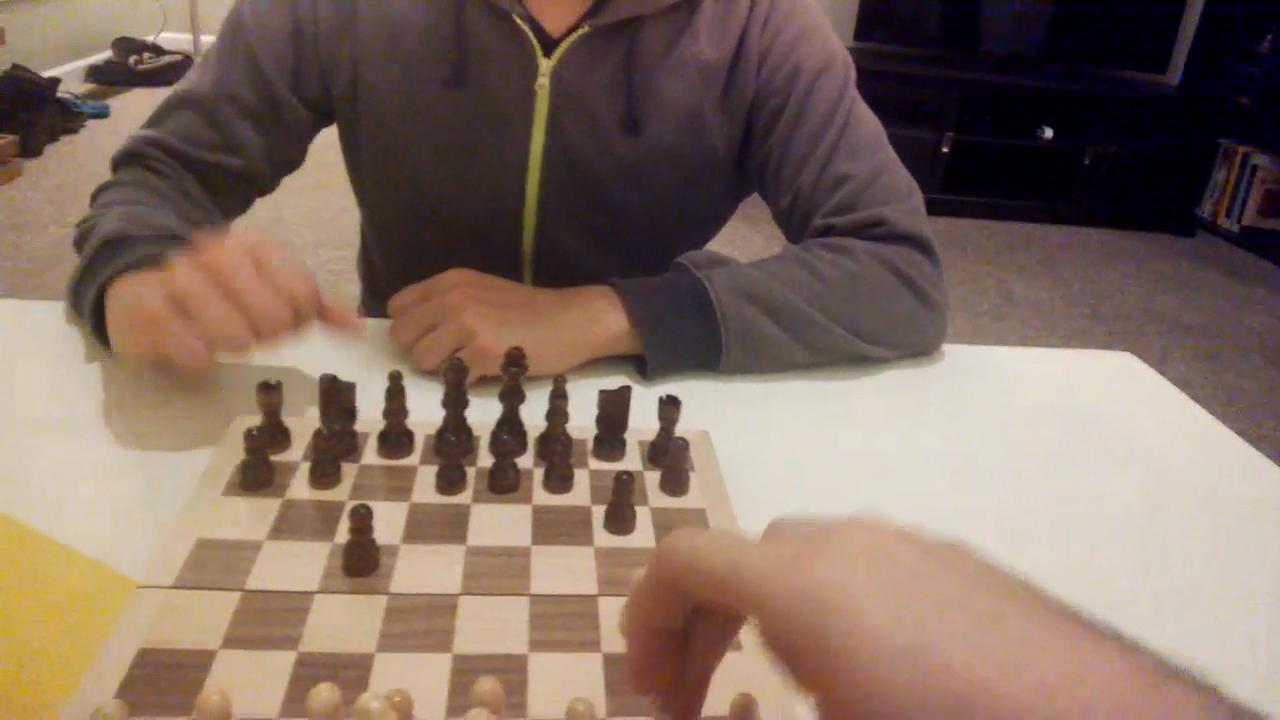hand: (592, 516, 1096, 720), (97, 230, 365, 363), (378, 258, 625, 382)
